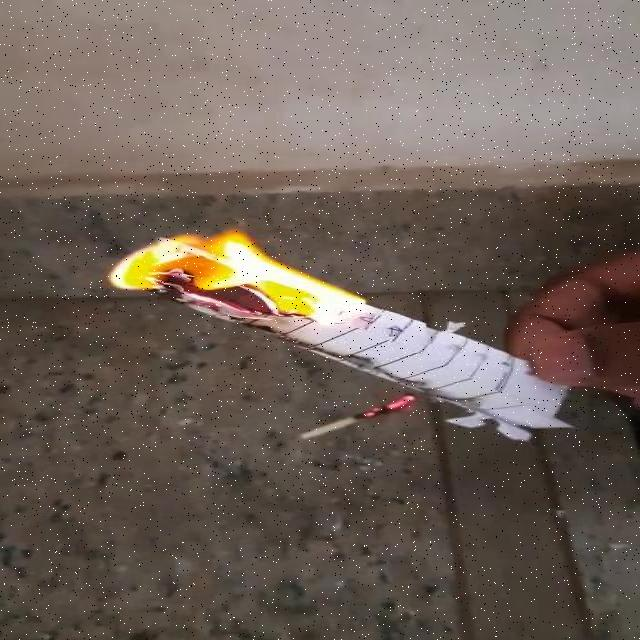fire: (110, 224, 320, 327)
